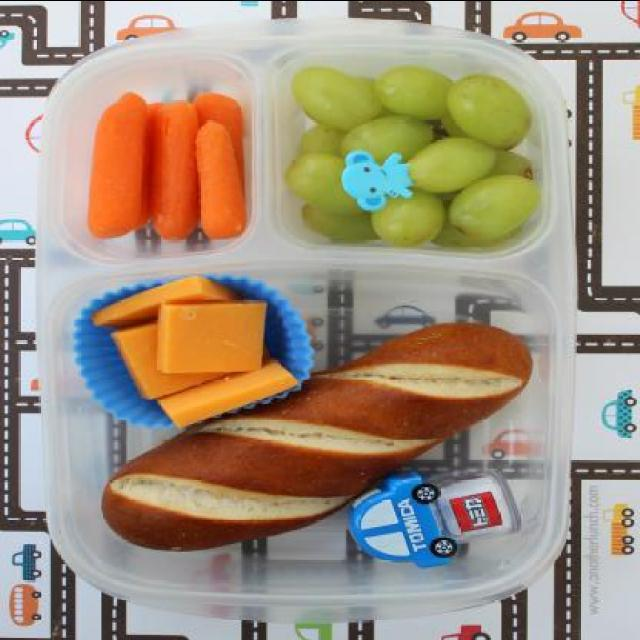Carrot: (82, 90, 253, 236)
